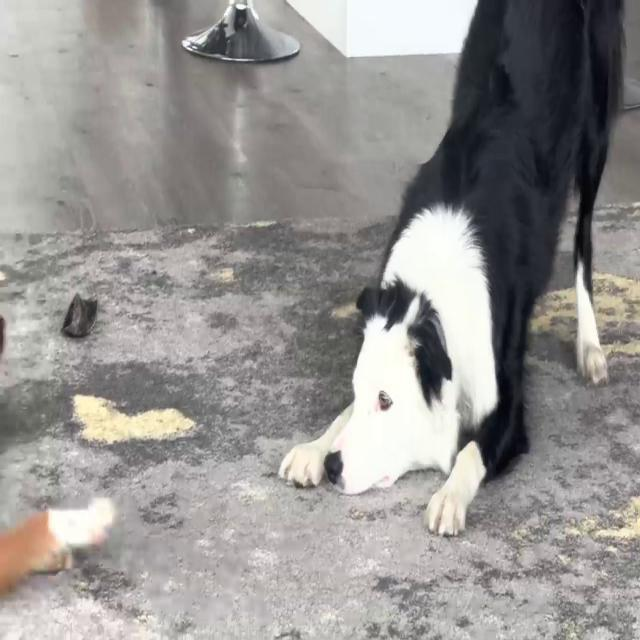Dog: (278, 0, 626, 537)
